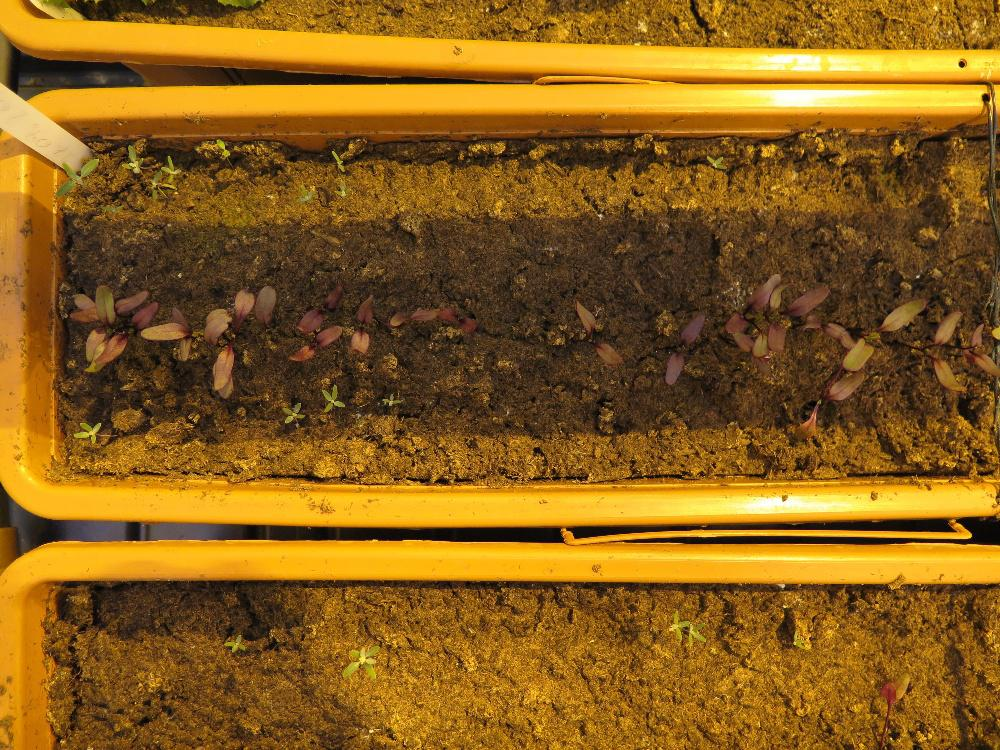crop: (572, 297, 622, 365), (662, 311, 705, 385), (349, 292, 373, 354), (878, 670, 909, 707)
weed: (53, 154, 99, 197), (340, 642, 380, 679), (119, 142, 143, 174), (71, 419, 101, 444), (320, 382, 346, 410), (280, 401, 304, 423), (221, 631, 244, 652), (791, 625, 810, 650), (331, 176, 351, 199), (294, 181, 313, 204), (212, 137, 230, 161), (703, 152, 726, 170), (329, 148, 343, 173), (379, 391, 400, 406)
